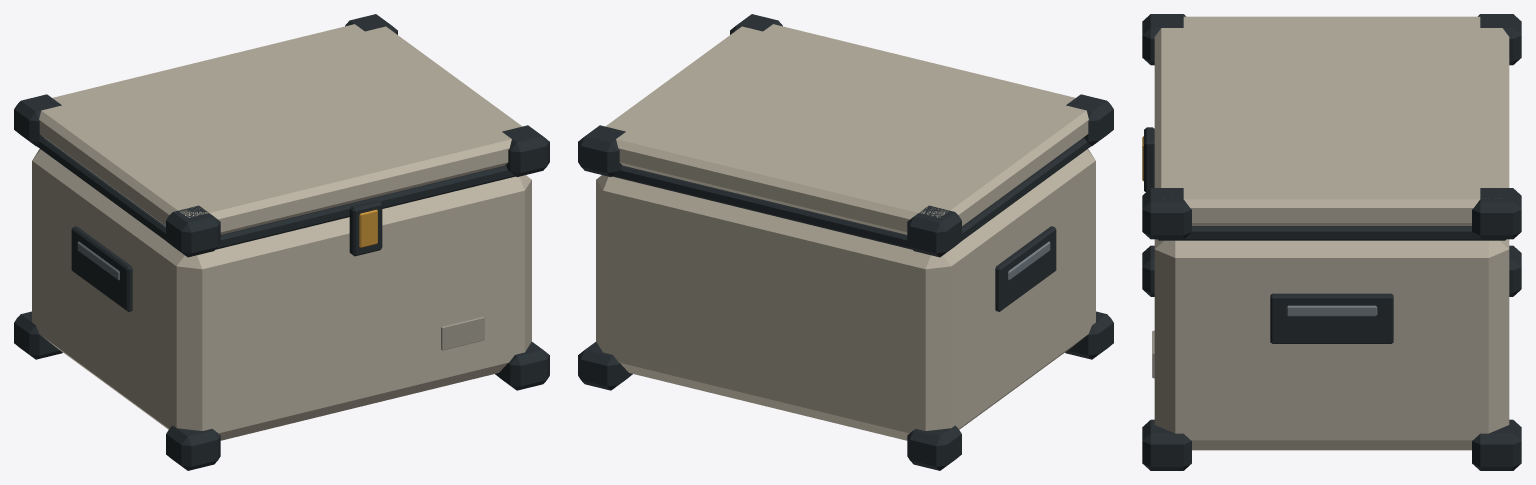
The model's file is crate_d0_lod0.meshopt.glb.
3 renders of one model, left to right at view 1: azimuth 30°, elevation 25°; view 2: azimuth 150°, elevation 25°; view 3: azimuth 270°, elevation 25°, orthographic. The views are drawn at different scales.
Parts seen in each view (by area): view 1: CRATE_SURFACE; view 2: CRATE_SURFACE; view 3: CRATE_SURFACE.
Boxes of the visible parts, x1,y1,x2,y2 form: CRATE_SURFACE: (14, 14, 549, 470); CRATE_SURFACE: (578, 14, 1113, 470); CRATE_SURFACE: (1142, 14, 1521, 470).
Bounding box in the file's own units: 0.56 × 0.36 × 0.46.
